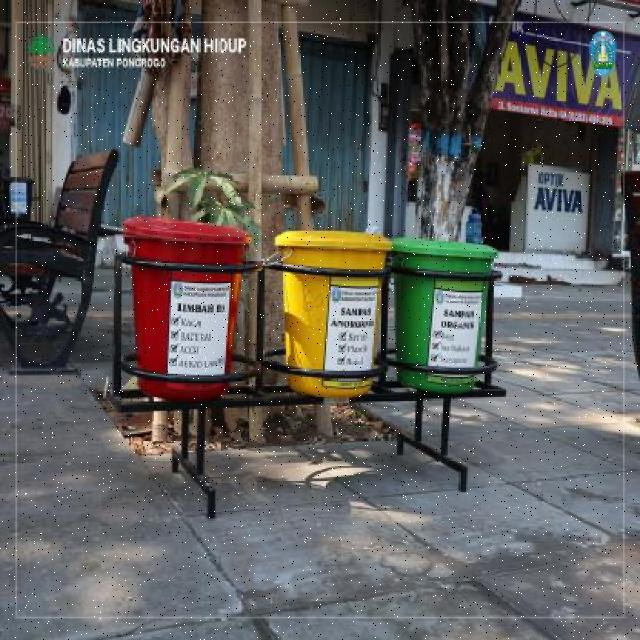garbage container: (114, 208, 258, 412), (271, 220, 389, 406), (390, 228, 504, 404)
